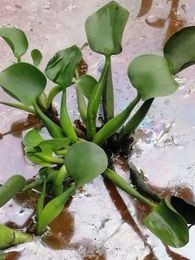water_hyacinth: (1, 1, 195, 248)
